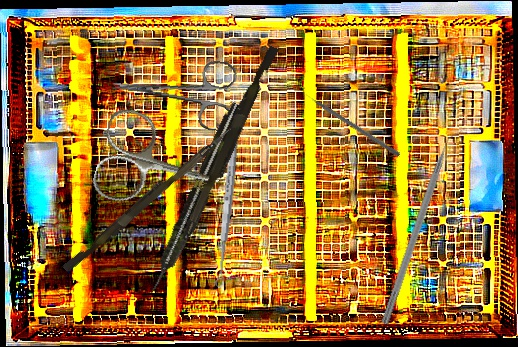Chopper: (380, 124, 467, 329)
Handpiece: (145, 100, 245, 295)
Iris Scissors: (88, 103, 232, 228), (108, 48, 239, 133)
Pusher: (62, 121, 233, 277), (173, 43, 279, 263), (299, 88, 402, 158)
Surgical Spoon: (213, 129, 241, 289)
